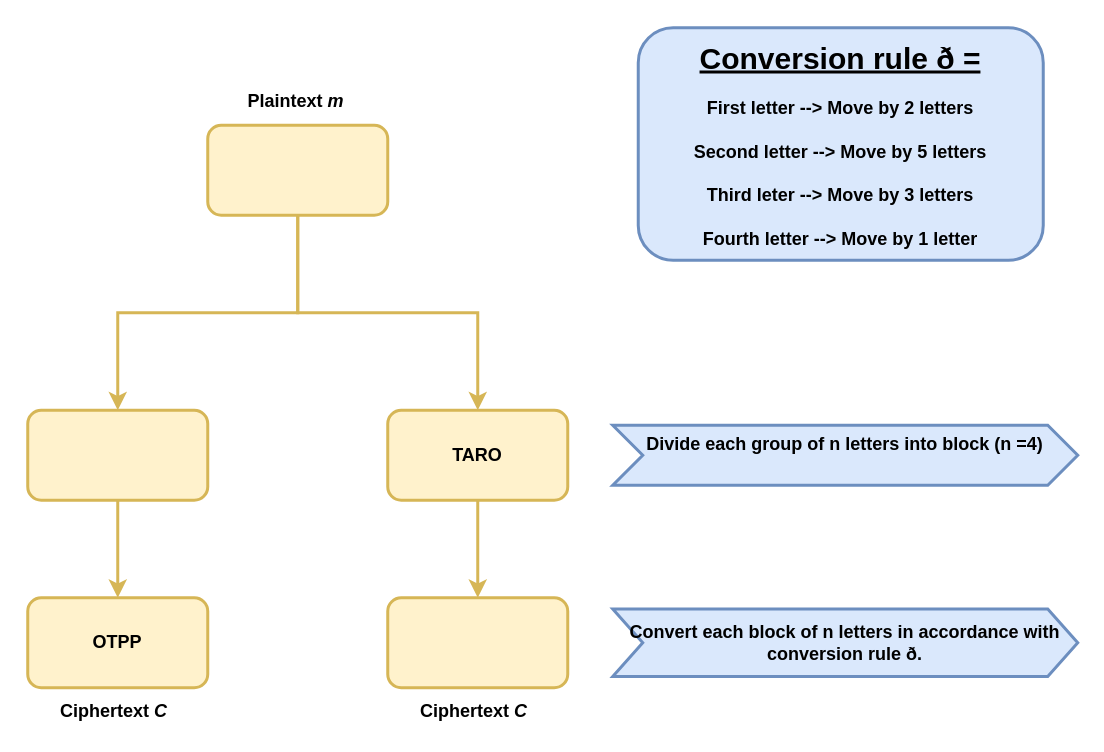
Image size: 1104x752. Some labels were removed from this diagram. Here are the shapes that lost their labels. From the top down, the centre of each, then its label:
At point (297, 169): "MOMOTARO".
At point (117, 454): "MOMO".
At point (477, 642): "VFUP".
